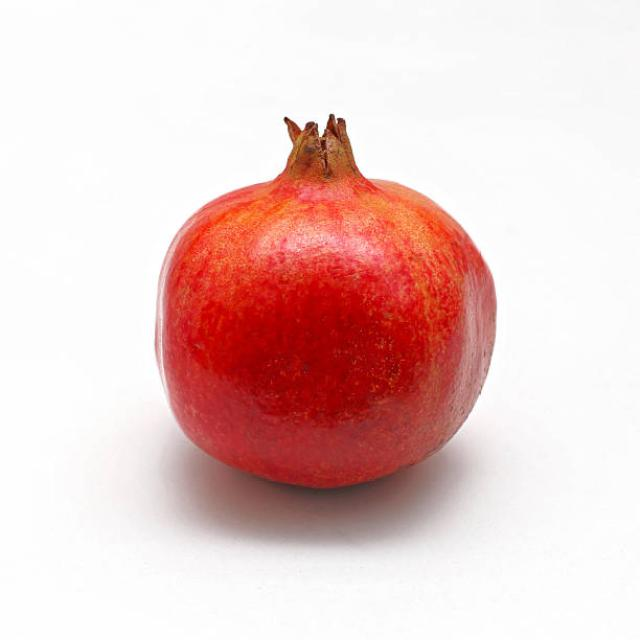Ripe: (150, 101, 502, 492)
